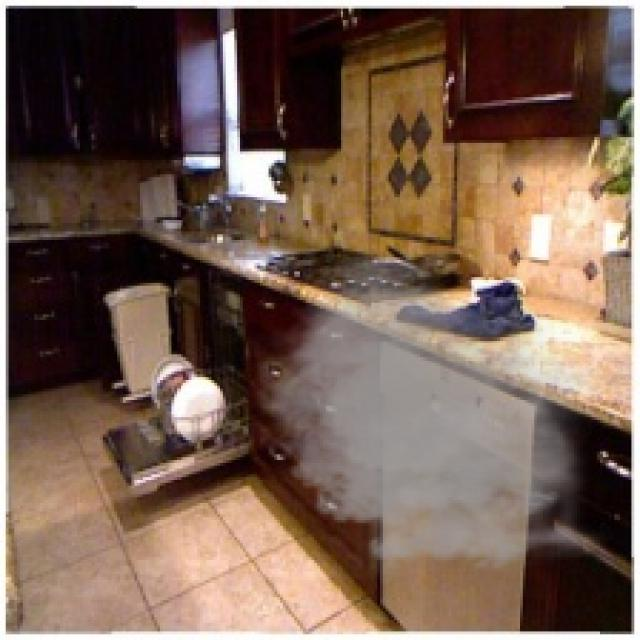smoke: (246, 243, 614, 586)
